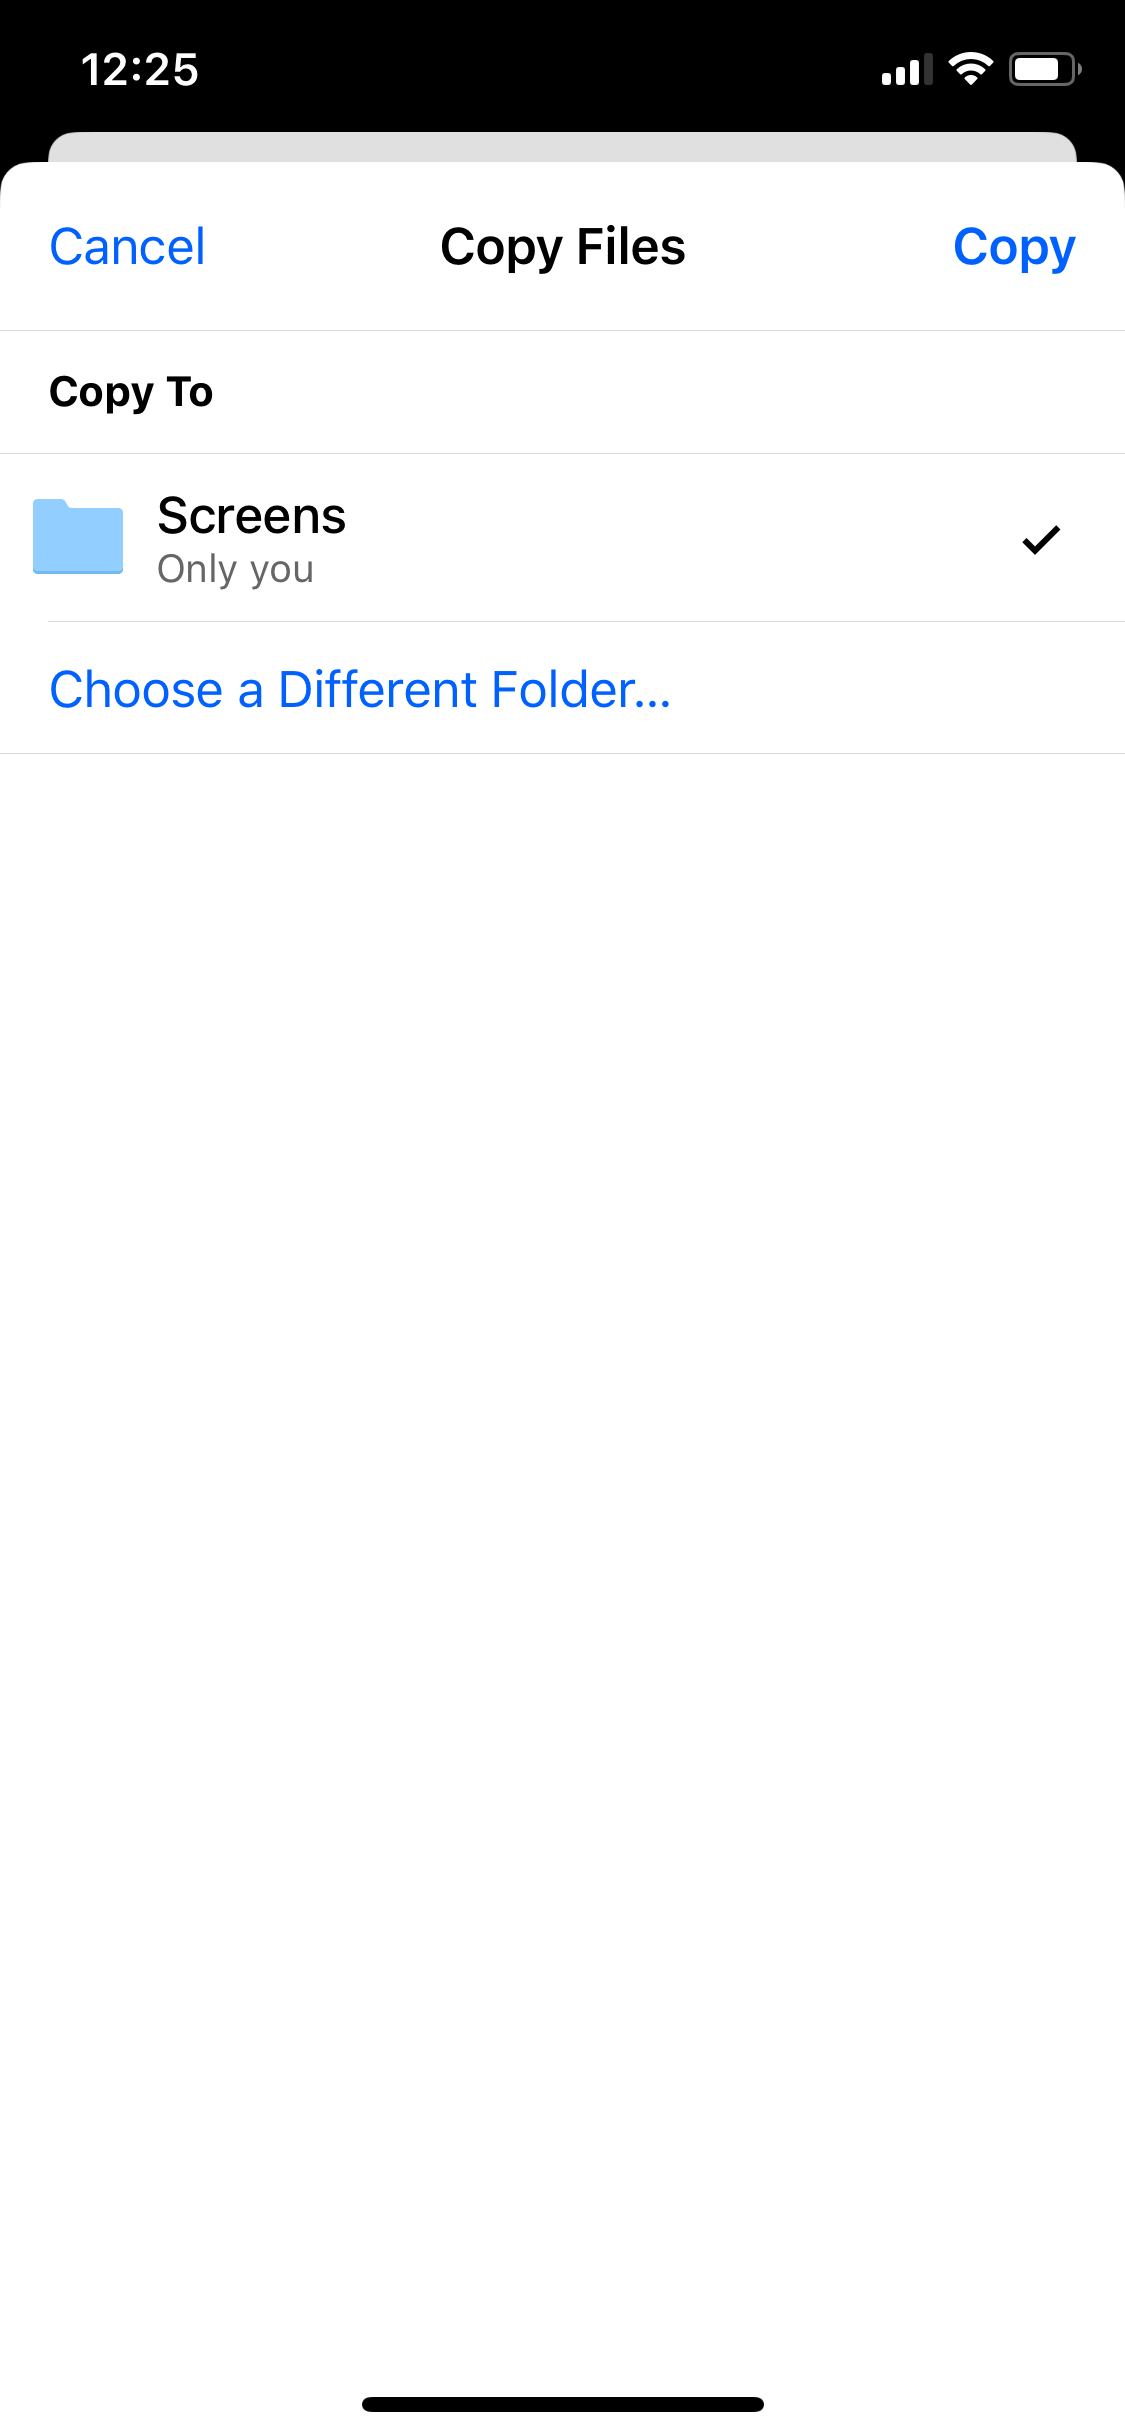Buttons: (16, 190, 236, 304), (921, 196, 1102, 298)
